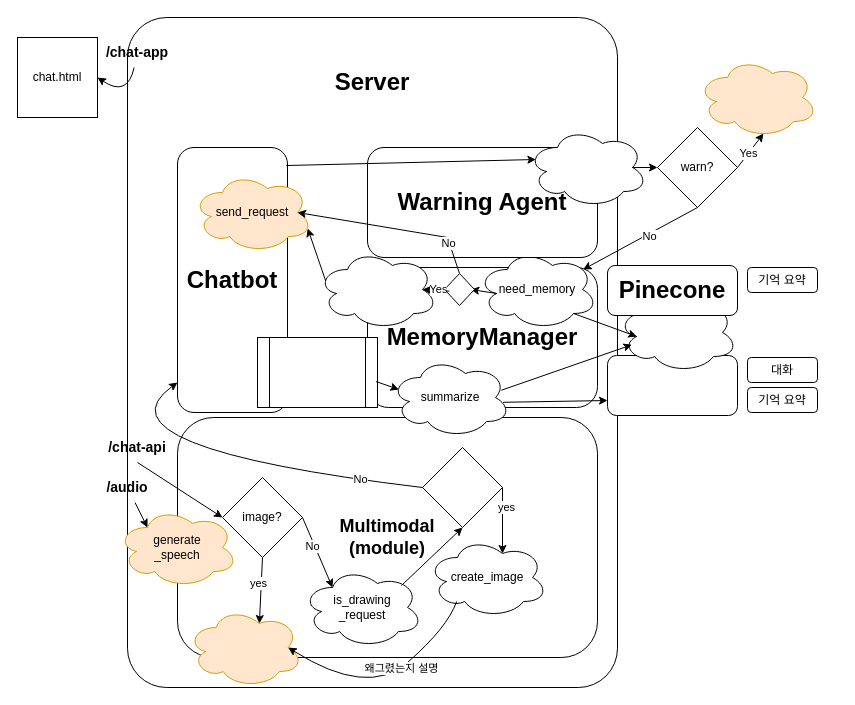
This 855x705 diagram has some shape labels left out. Here are the shapes that lost their labels. From the top down, the centre of each, then its label:
pixel 757 97: warn_user
pixel 587 167: monitor_user
pixel 377 289: filter
pixel 677 332: embedding
pixel 317 372: (Daemon) save_chat() save_memory()
pixel 672 385: MongoDB
pixel 462 487: true?
pixel 244 647: ask_gpt _vision
